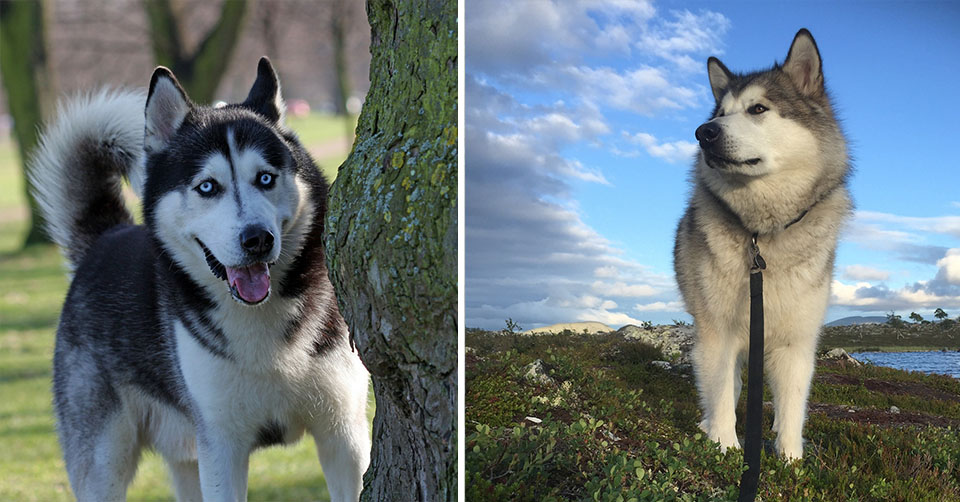husky: (102, 43, 334, 324), (666, 12, 862, 300)
